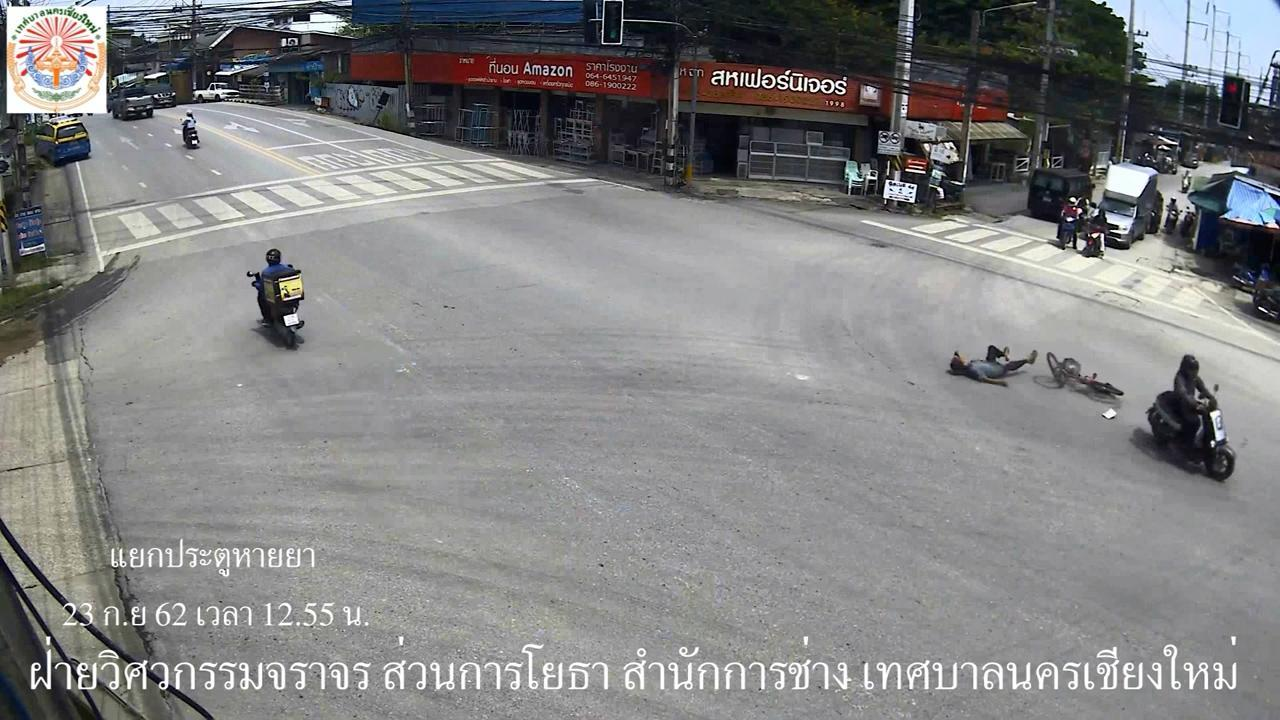accident: (946, 332, 1041, 385)
